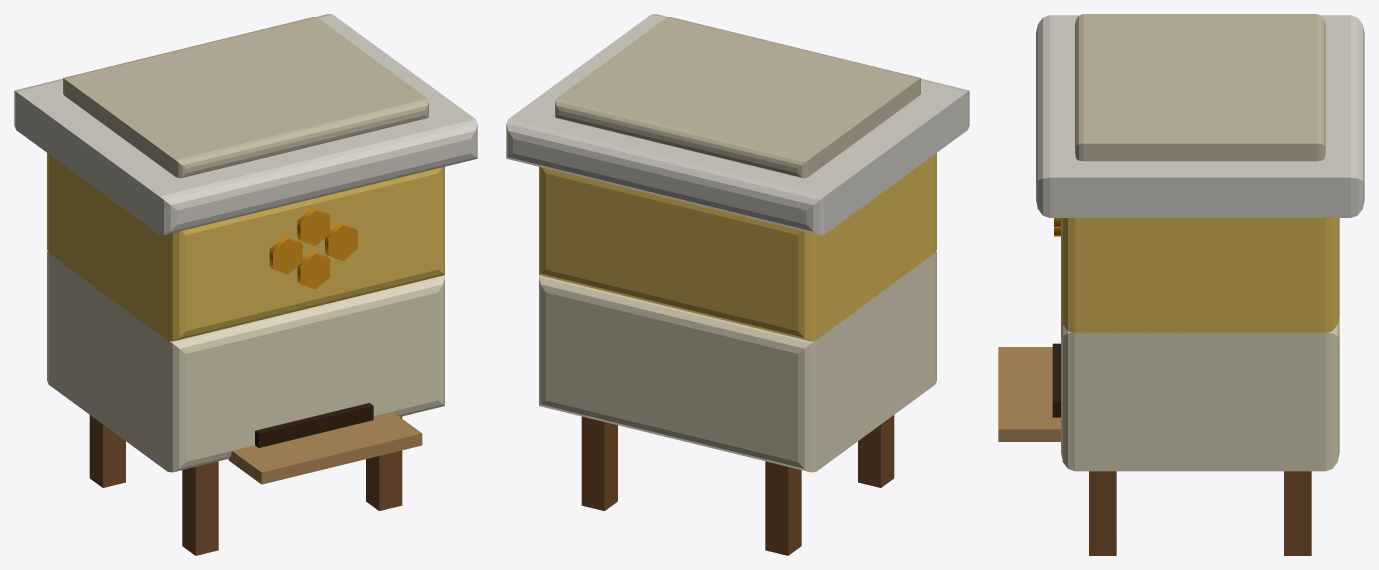
File: hive.glb
The picture shows the model from 3 angles, left to right: view 1: azimuth 30°, elevation 25°; view 2: azimuth 150°, elevation 25°; view 3: azimuth 270°, elevation 25°; orthographic projection. The views are drawn at different scales.
Parts seen in each view (by area): view 1: farm_hive; view 2: farm_hive; view 3: farm_hive.
Part boxes in pixels (box(x1,y1,x2,y2)): farm_hive: box(14, 14, 477, 555); farm_hive: box(506, 14, 969, 555); farm_hive: box(998, 14, 1364, 555).
Bounding box in the file's own units: 1.38 × 1.68 × 1.31.
